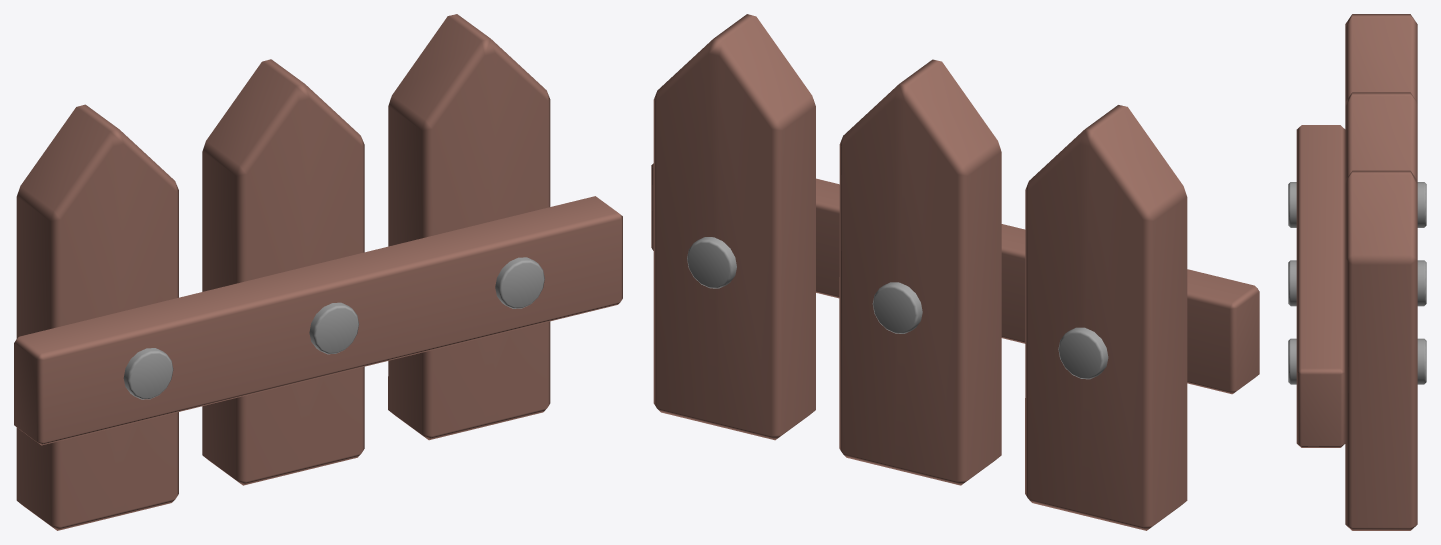
The model's file is Farm_12_Fence_1.glb.
3 views of the same model, side by side, from view 1: azimuth 30°, elevation 25°; view 2: azimuth 150°, elevation 25°; view 3: azimuth 270°, elevation 25° (orthographic). The views are drawn at different scales.
Visible parts, largest first — view 1: Farm_12_Fence_1; view 2: Farm_12_Fence_1; view 3: Farm_12_Fence_1.
Boxes of the visible parts, bbox=[...] form: Farm_12_Fence_1: bbox=[14, 14, 622, 530]; Farm_12_Fence_1: bbox=[651, 14, 1259, 530]; Farm_12_Fence_1: bbox=[1288, 14, 1426, 530].
Size of the model in its own units: 1.31 by 0.8265 by 0.3095.
Materials: 1 (1 with a texture image).
